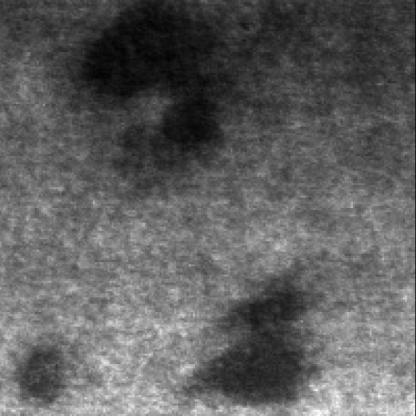patches: (73, 2, 243, 104), (193, 274, 325, 402), (121, 84, 231, 171), (15, 339, 77, 408)
